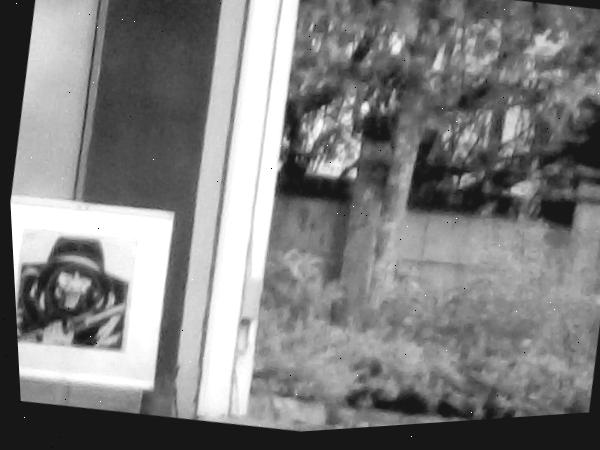bia: (12, 229, 140, 350)
